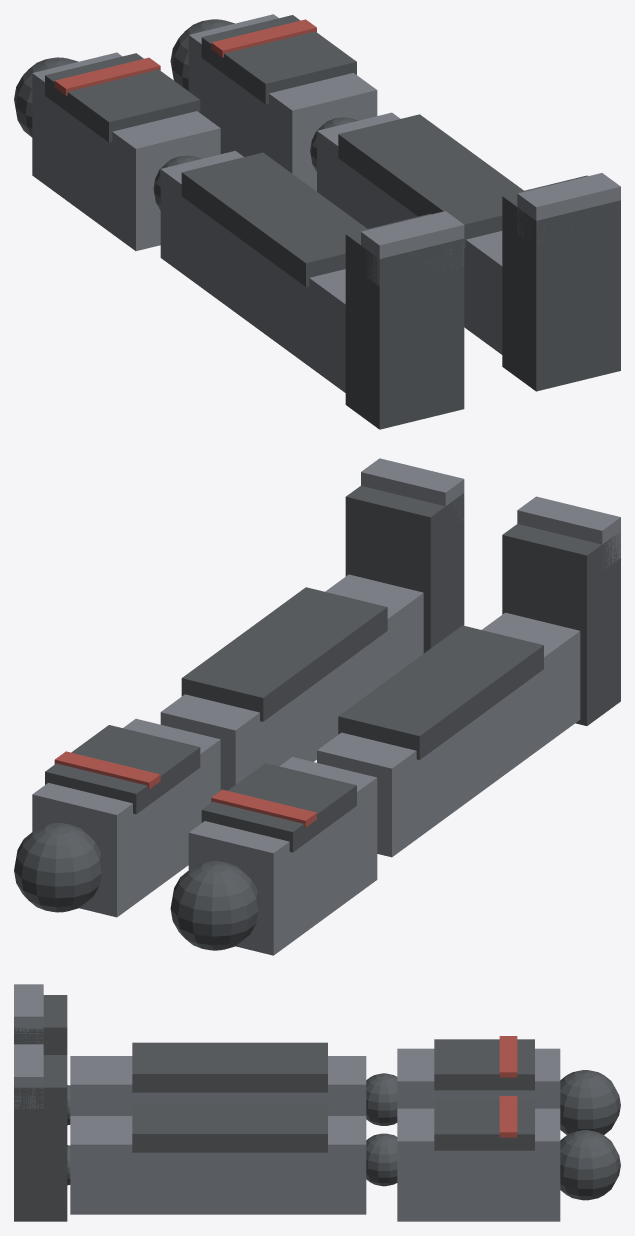
File: legs-bruiser.glb
3 views of the same model, one above another, from view 1: azimuth 30°, elevation 25°; view 2: azimuth 150°, elevation 25°; view 3: azimuth 270°, elevation 25° (orthographic). The views are drawn at different scales.
Parts seen in each view (by area): view 1: foot_-1, foot_1, shin_-1, thigh_-1, shinguard_-1, shinguard_1, thigh_1, shin_1, thighplate_-1, thighplate_1, toe_-1, toe_1 (+4 smaller); view 2: shin_-1, shin_1, thigh_-1, thigh_1, shinguard_1, foot_-1, shinguard_-1, foot_1, thighplate_1, thighplate_-1, hip_1, hip_-1 (+4 smaller); view 3: shin_1, thigh_1, shinguard_-1, shinguard_1, shin_-1, foot_1, thigh_-1, thighplate_-1, thighplate_1, hip_1, hip_-1, foot_-1 (+6 smaller).
Boxes of the visible parts, x1=… form: foot_-1: x1=345, y1=213, x2=464, y2=429; foot_1: x1=502, y1=175, x2=620, y2=391; shin_-1: x1=160, y1=150, x2=345, y2=392; thigh_-1: x1=32, y1=52, x2=220, y2=250; shinguard_-1: x1=181, y1=152, x2=367, y2=286; shinguard_1: x1=338, y1=114, x2=523, y2=248; thigh_1: x1=188, y1=14, x2=377, y2=191; shin_1: x1=317, y1=112, x2=502, y2=354; thighplate_-1: x1=45, y1=53, x2=200, y2=142; thighplate_1: x1=201, y1=15, x2=356, y2=104; toe_-1: x1=361, y1=211, x2=464, y2=285; toe_1: x1=517, y1=173, x2=620, y2=243; shin_-1: x1=317, y1=612, x2=580, y2=857; shin_1: x1=160, y1=574, x2=423, y2=790; thigh_-1: x1=188, y1=757, x2=377, y2=955; thigh_1: x1=32, y1=718, x2=220, y2=917; shinguard_1: x1=181, y1=587, x2=387, y2=721; foot_-1: x1=502, y1=524, x2=620, y2=725; shinguard_-1: x1=338, y1=625, x2=543, y2=759; foot_1: x1=345, y1=486, x2=464, y2=653; thighplate_1: x1=45, y1=725, x2=200, y2=814; thighplate_-1: x1=201, y1=763, x2=356, y2=852; hip_1: x1=14, y1=823, x2=103, y2=912; hip_-1: x1=170, y1=861, x2=259, y2=950; shin_1: x1=70, y1=1116, x2=366, y2=1214; thigh_1: x1=397, y1=1108, x2=560, y2=1221; shinguard_-1: x1=132, y1=1042, x2=327, y2=1092; shinguard_1: x1=132, y1=1102, x2=327, y2=1152; shin_-1: x1=70, y1=1056, x2=366, y2=1115; foot_1: x1=14, y1=1055, x2=67, y2=1221; thigh_-1: x1=397, y1=1048, x2=560, y2=1108; thighplate_-1: x1=434, y1=1039, x2=534, y2=1090; thighplate_1: x1=434, y1=1099, x2=534, y2=1150; hip_1: x1=560, y1=1130, x2=620, y2=1200; hip_-1: x1=560, y1=1070, x2=620, y2=1134; foot_-1: x1=14, y1=995, x2=67, y2=1054.
Bounding box in the file's own units: 0.77 × 0.54 × 2.05.
